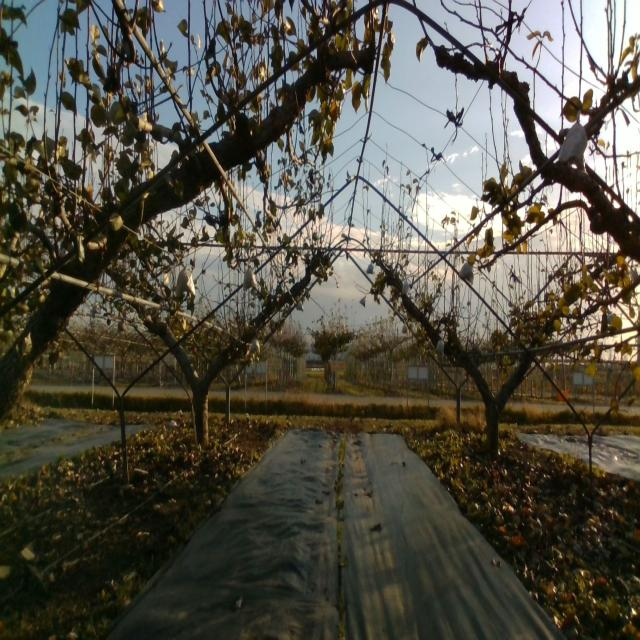pearbags: (557, 108, 588, 174), (175, 261, 195, 300), (244, 263, 258, 292), (458, 264, 474, 284)
